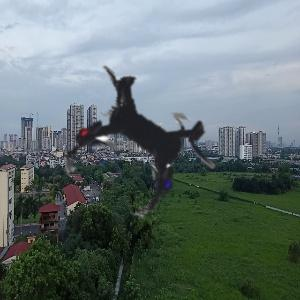drone: (13, 7, 283, 277)
